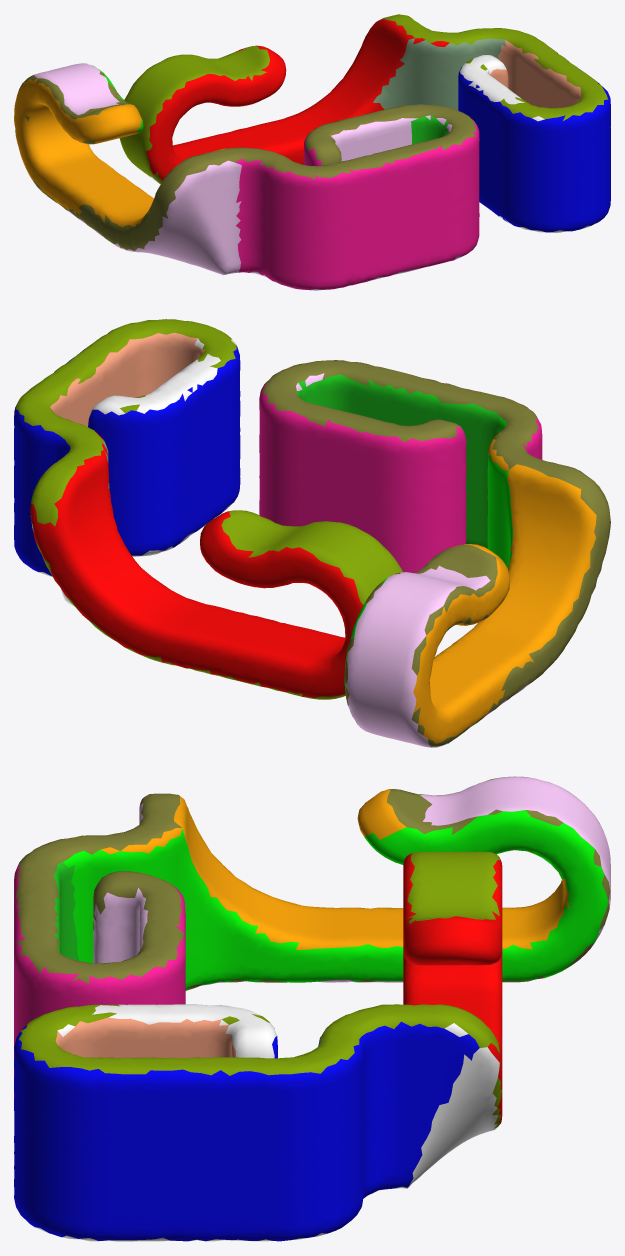
File: model_97_segmented_new.obj
The picture shows the model from 3 angles, top to bottom: view 1: azimuth 30°, elevation 25°; view 2: azimuth 150°, elevation 25°; view 3: azimuth 270°, elevation 25°; orthographic projection. The views are drawn at different scales.
Bounding box in the file's own units: 108 × 31 × 90.48.
